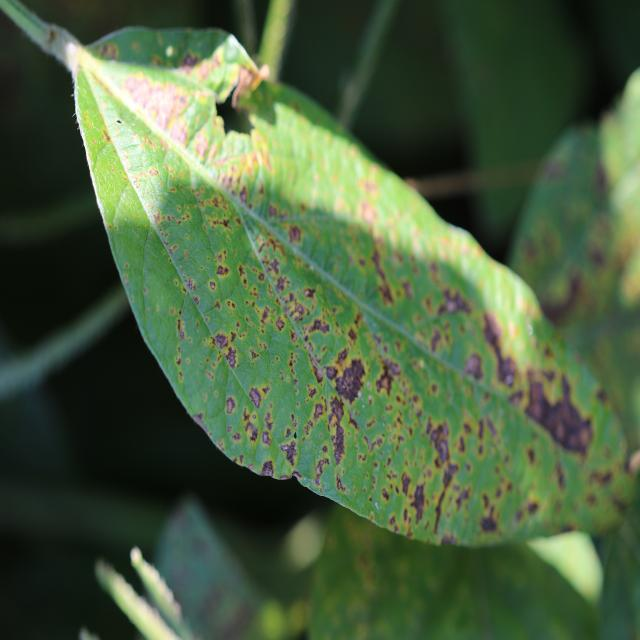Bacterial_Blight: (123, 74, 201, 138), (422, 419, 464, 526), (536, 378, 594, 452), (482, 316, 521, 390), (324, 353, 369, 409), (155, 203, 197, 256), (542, 273, 583, 323), (210, 328, 239, 369), (438, 286, 472, 316), (369, 247, 391, 292), (133, 164, 164, 192), (409, 480, 427, 525), (242, 407, 261, 444), (463, 352, 484, 381), (593, 159, 609, 195), (308, 353, 325, 385), (306, 316, 330, 337), (479, 508, 498, 533), (279, 439, 297, 465), (359, 199, 377, 223), (589, 245, 606, 268), (99, 41, 118, 60), (248, 386, 263, 409), (430, 329, 444, 353), (181, 51, 199, 69), (363, 433, 379, 453), (316, 457, 330, 478), (335, 472, 348, 494), (288, 224, 302, 244), (400, 280, 414, 300), (275, 275, 289, 294), (401, 471, 412, 495), (260, 460, 275, 477), (292, 304, 305, 322), (313, 402, 325, 421), (192, 412, 205, 429), (261, 306, 272, 325), (526, 446, 536, 465), (269, 258, 280, 275), (239, 185, 248, 205), (527, 500, 539, 515), (226, 397, 236, 414), (216, 264, 229, 277), (238, 264, 247, 282), (303, 287, 316, 299), (275, 317, 285, 331), (250, 348, 260, 360), (388, 514, 396, 528), (153, 211, 161, 224), (382, 488, 390, 500), (188, 279, 196, 290), (222, 218, 230, 228), (103, 133, 110, 143), (209, 280, 216, 290), (214, 300, 221, 310), (193, 296, 199, 305)
Soybean: (4, 4, 634, 545)
